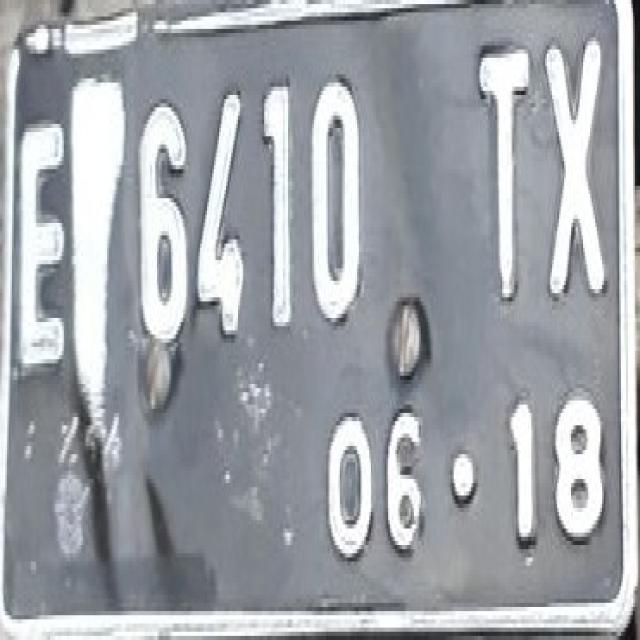plate: (5, 4, 638, 619)
